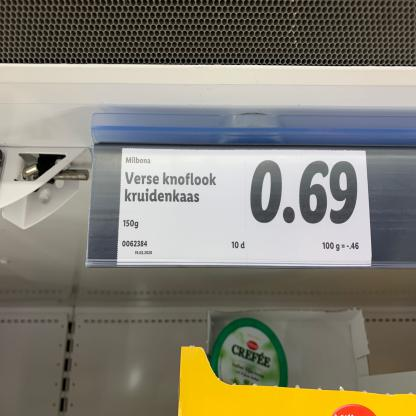prtg: (118, 149, 373, 267)
